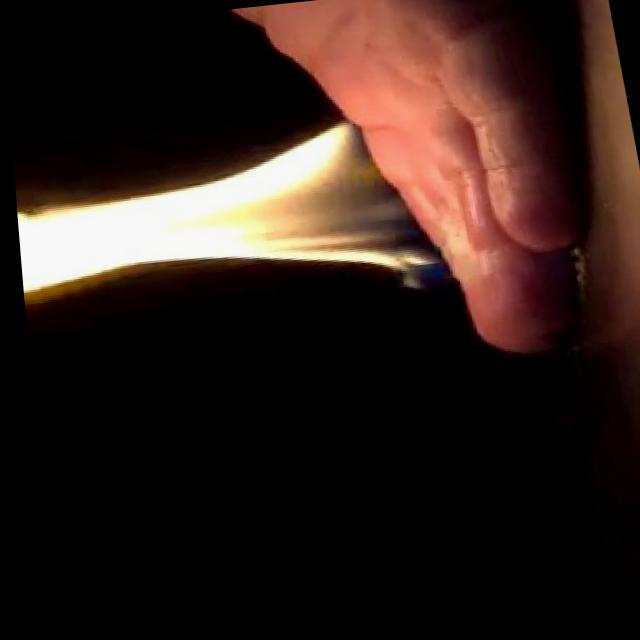Fire: (7, 102, 445, 332)
